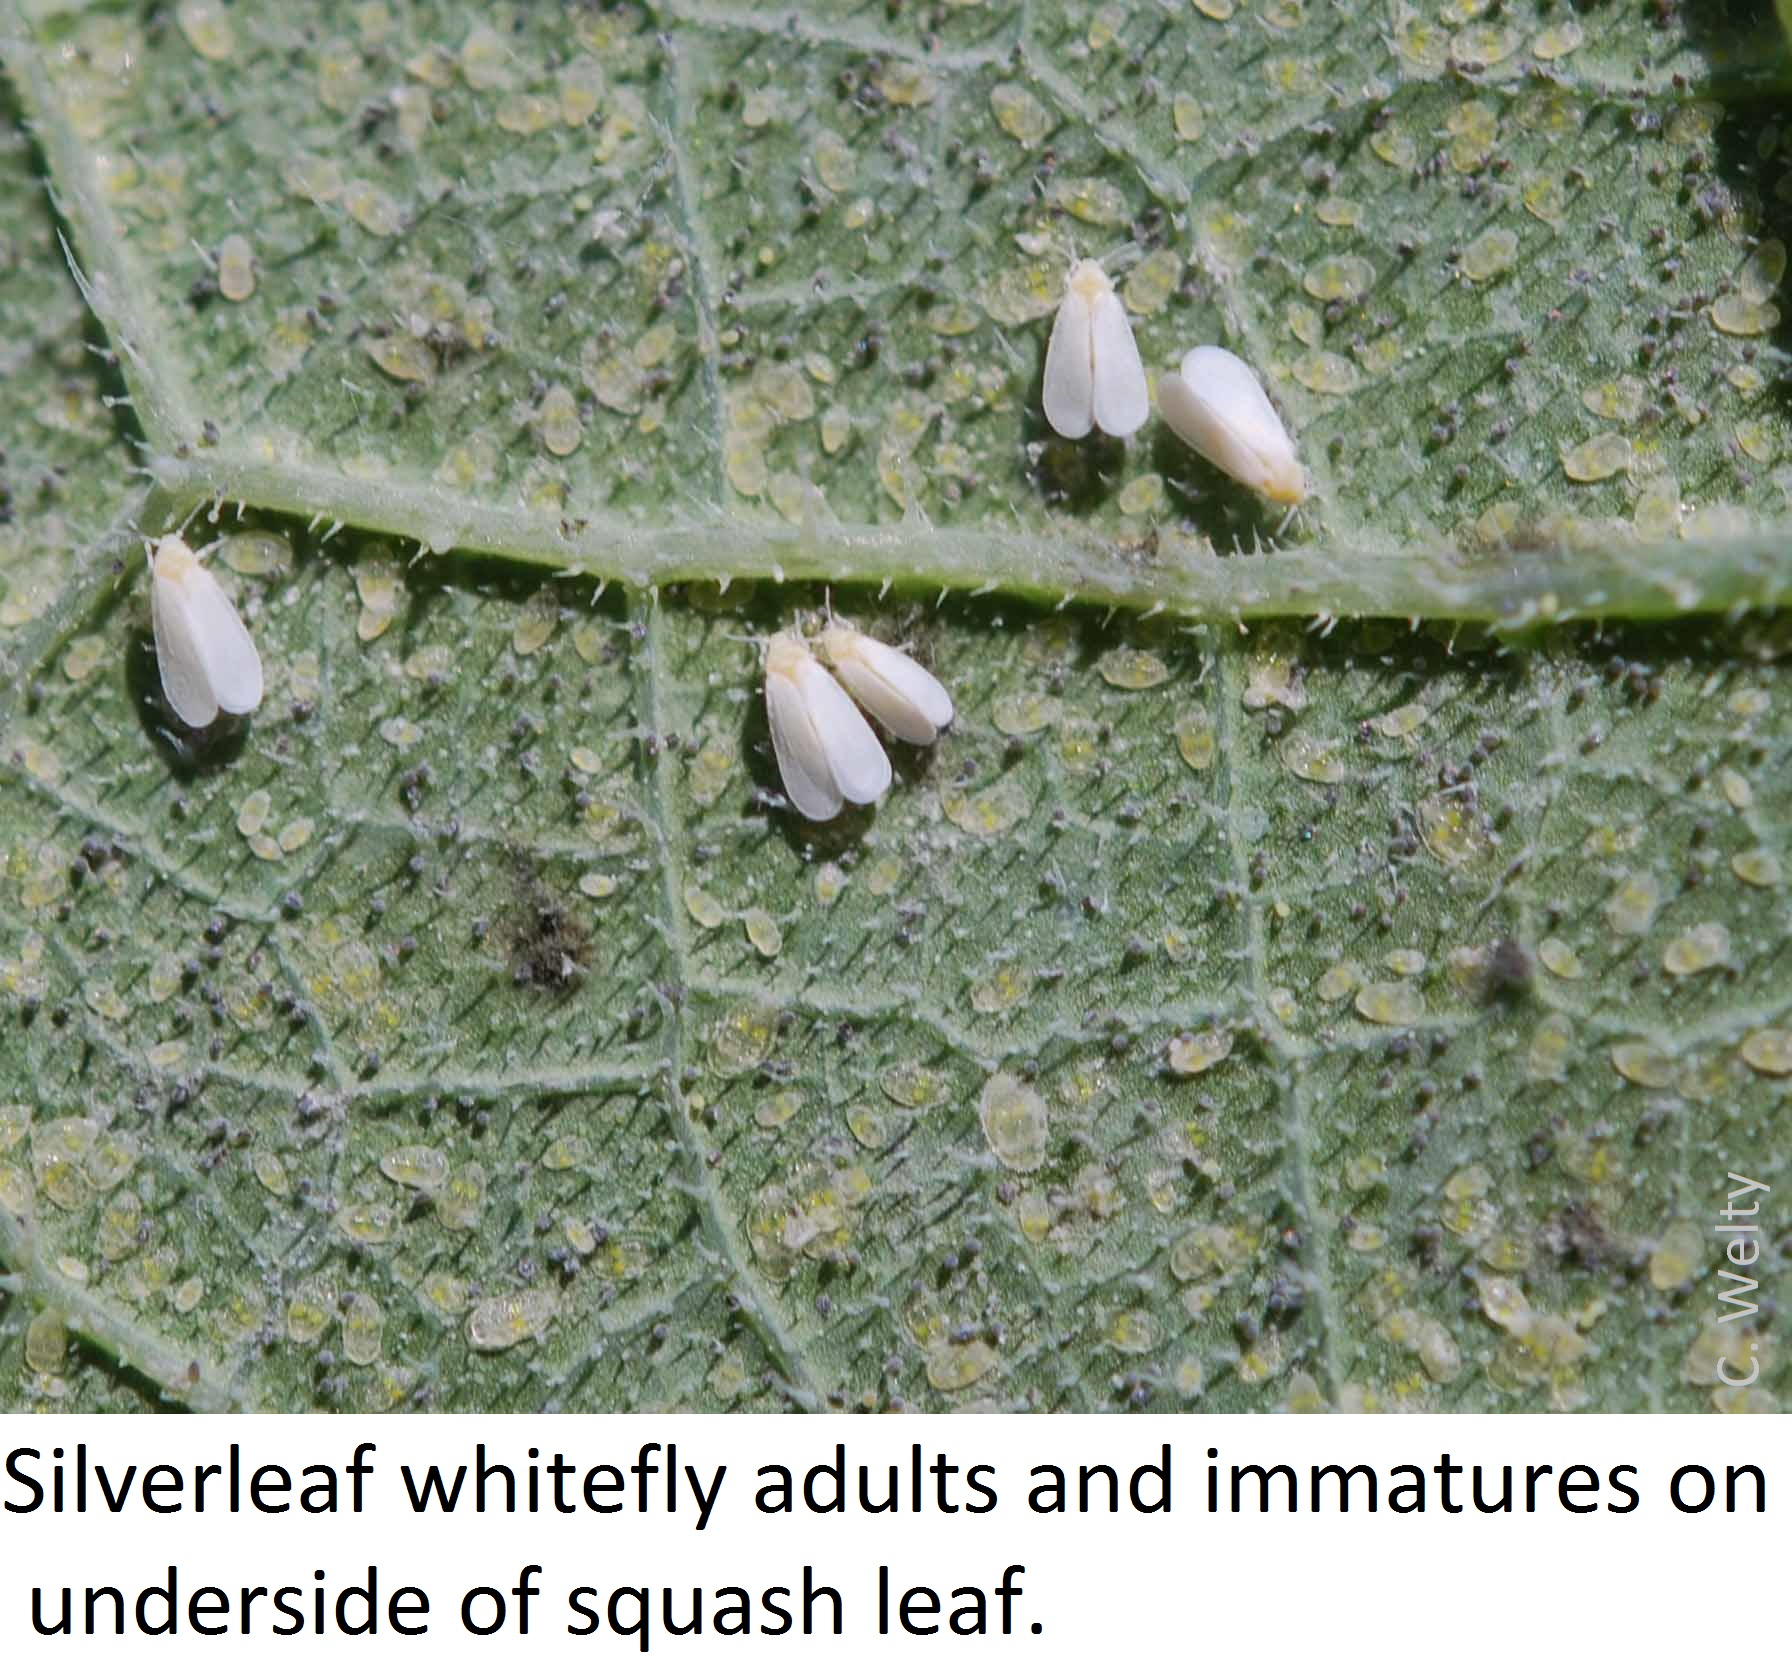Tobacco Whitefly: (1159, 286, 1331, 586), (803, 547, 972, 768), (126, 527, 295, 737), (1008, 234, 1147, 473), (749, 611, 859, 839)
